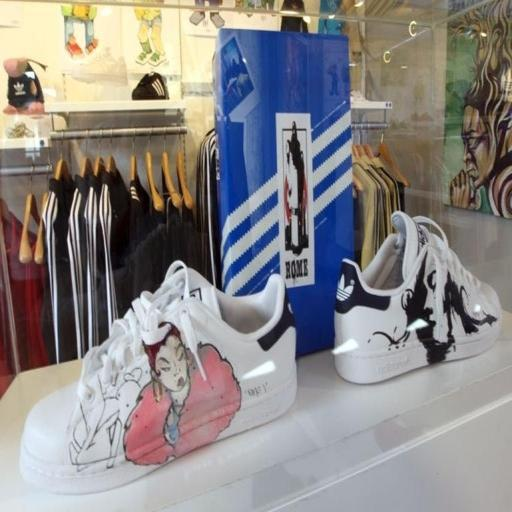shoe: (20, 262, 296, 493), (333, 212, 501, 383), (71, 48, 127, 86), (132, 72, 169, 100)
